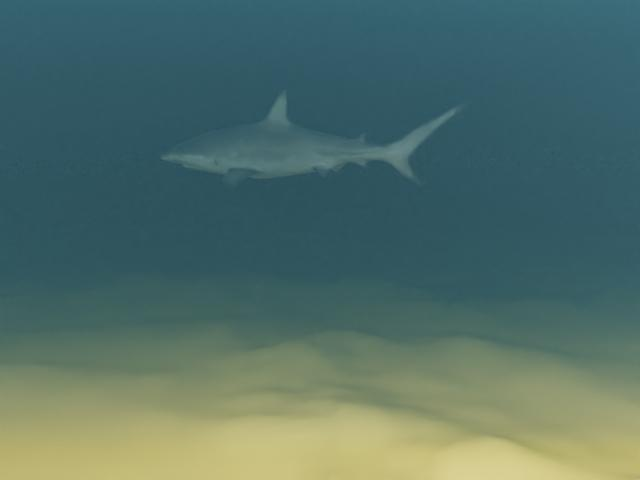Carribean Shark.001: (160, 89, 471, 190)
